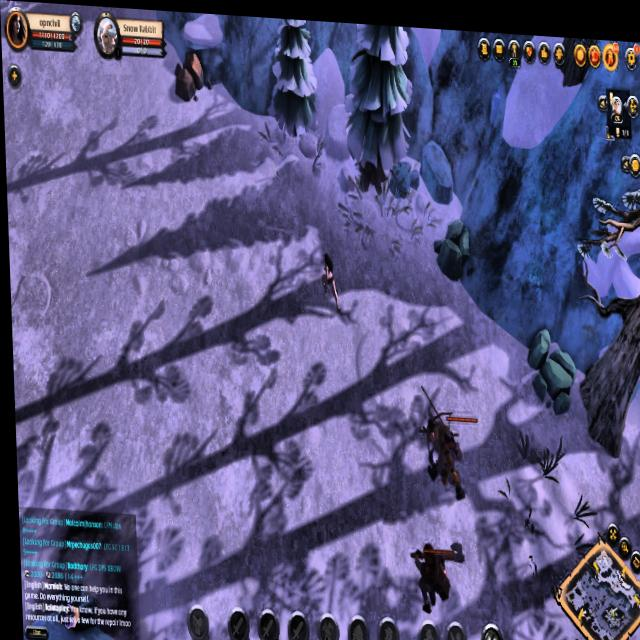limestone: (166, 42, 215, 107)
mob: (416, 388, 469, 502), (402, 525, 464, 612)
sandstone: (522, 309, 579, 414), (430, 201, 476, 283)
